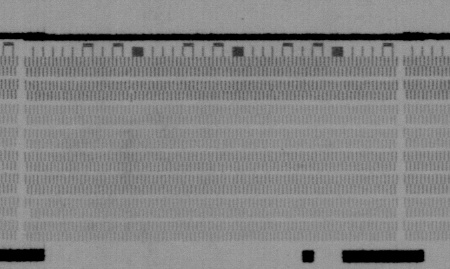Broken hole: (21, 208, 34, 220)
Oblique printing: (126, 90, 138, 104)
